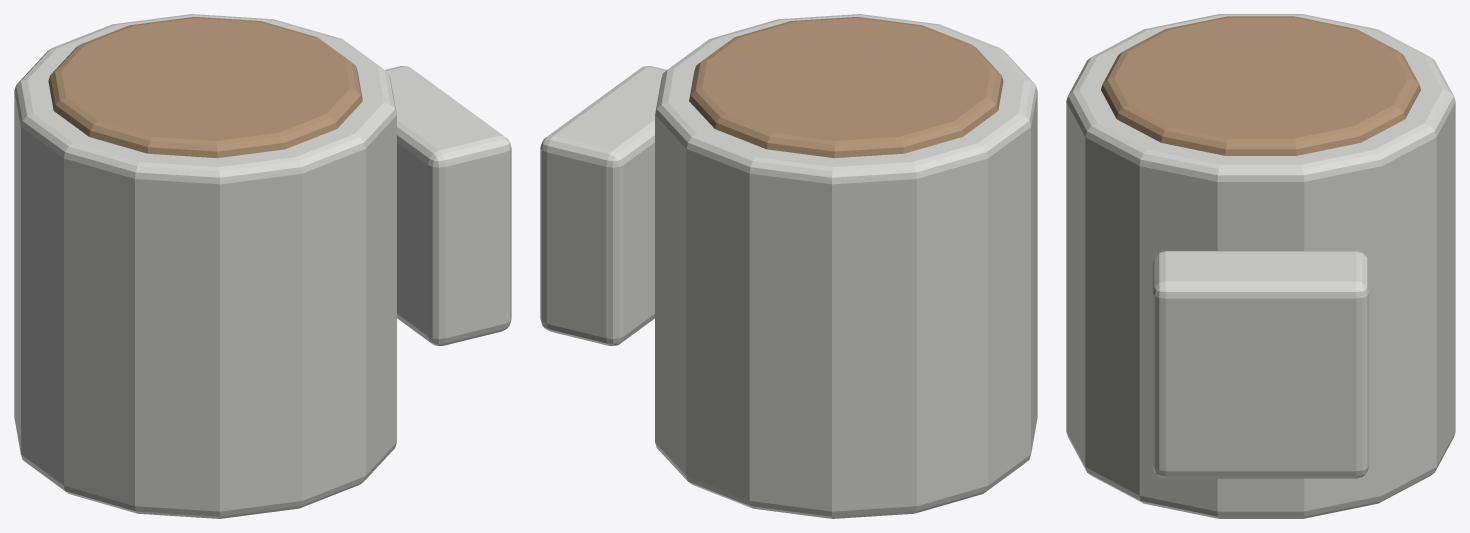
File: Mug.fbx
The picture shows the model from 3 angles, left to right: view 1: azimuth 30°, elevation 25°; view 2: azimuth 150°, elevation 25°; view 3: azimuth 270°, elevation 25°; orthographic projection.
Visible parts, largest first — view 1: Mug; view 2: Mug; view 3: Mug.
Boxes of the visible parts, left/top/right/bottom form: Mug: left=14, top=14, right=511, bottom=518; Mug: left=540, top=14, right=1037, bottom=518; Mug: left=1066, top=14, right=1455, bottom=518.
Bounding box in the file's own units: 0.1129 × 0.093 × 0.09.
